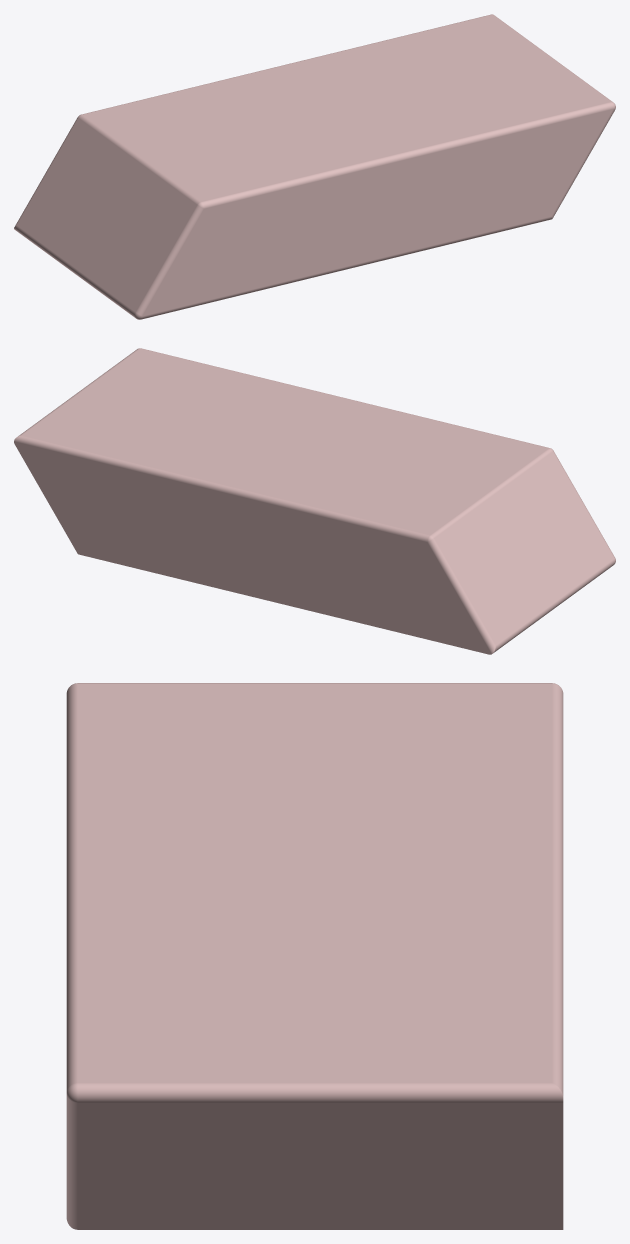
The picture shows the model from 3 angles, top to bottom: view 1: azimuth 30°, elevation 25°; view 2: azimuth 150°, elevation 25°; view 3: azimuth 270°, elevation 25°; orthographic projection. The views are drawn at different scales.
Visible parts, largest first — view 1: Part7; view 2: Part7; view 3: Part7.
Part boxes in pixels (box(x1,y1,x2,y2)): Part7: box(14, 14, 615, 319); Part7: box(14, 348, 615, 654); Part7: box(66, 683, 563, 1229).
Size of the model in its own units: 0.0491 by 0.01 by 0.022.
